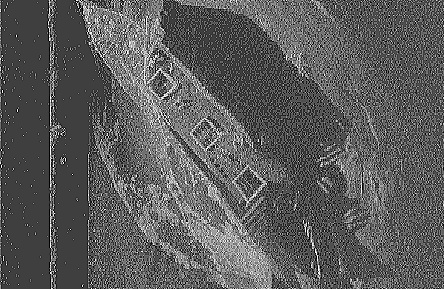ship: (76, 1, 321, 283)
